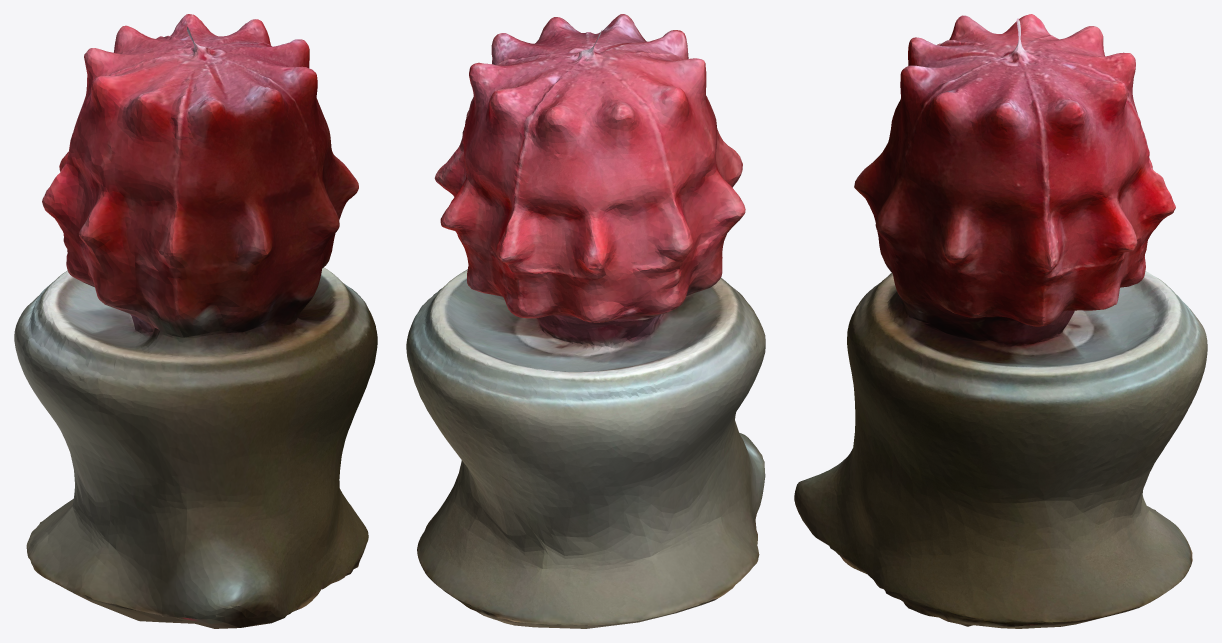
The model's file is Joel_Kerze.glb.
3 renders of one model, left to right at view 1: azimuth 30°, elevation 25°; view 2: azimuth 150°, elevation 25°; view 3: azimuth 270°, elevation 25°, orthographic.
Bounding box in the file's own units: 0.5355 × 0.91 × 0.6173.
Materials: 1 (1 with a texture image).
